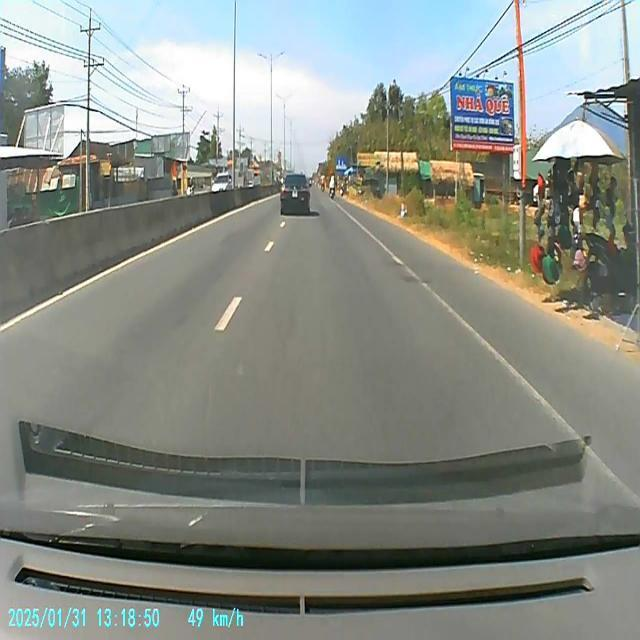420-bat-dau-khu-dong-dan-cu: (334, 156, 348, 174)
